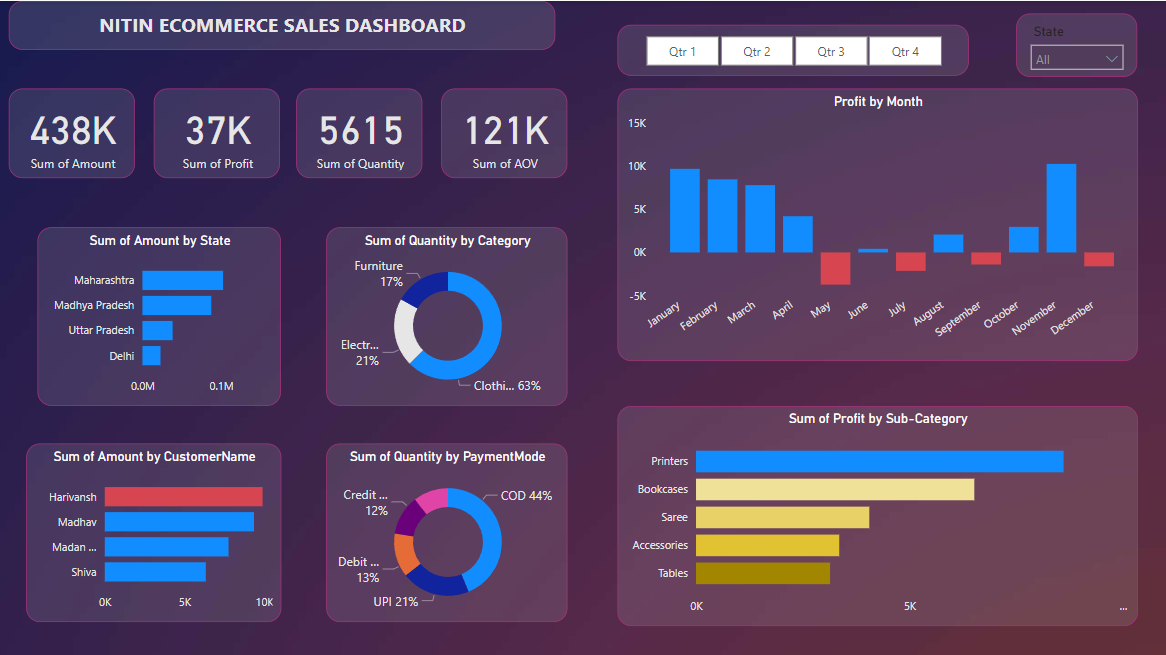

The page's visual inventory and layout, read from the dashboard file:
{"tool":"powerbi","page":{"name":"Page 1","canvas":[1280,720],"ordinal":0},"visuals":[{"type":"textbox","box":[9.6,0,599.7,53.5],"z":0},{"type":"columnChart","title":"Profit by Month","fields":{"Category":["Orders.Order Date.Variation.Date Hierarchy.Month"],"Y":["Details.Profit"]},"box":[677.9,96.1,570.8,299.1],"z":1000},{"type":"barChart","fields":{"Category":["Details.Sub-Category"],"Y":["Details.Profit"]},"box":[677.9,444.6,570.8,241.5],"z":2000},{"type":"donutChart","fields":{"Category":["Details.Category"],"Y":["Details.Quantity"]},"box":[358.1,248.4,264.8,196.2],"z":3000},{"type":"donutChart","fields":{"Y":["Details.Quantity"],"Category":["Details.PaymentMode"]},"box":[358.1,485.8,264.8,196.2],"z":4000},{"type":"card","fields":{"Values":["Details.Amount"]},"box":[9.6,96.1,138.6,98.8],"z":5000},{"type":"card","fields":{"Values":["Details.Profit"]},"box":[168.8,96.1,138.6,98.8],"z":6000},{"type":"card","fields":{"Values":["Details.Quantity"]},"box":[325.2,96.1,138.6,98.8],"z":7000},{"type":"card","fields":{"Values":["Details.AOV"]},"box":[484.4,96.1,138.6,98.8],"z":8000},{"type":"barChart","fields":{"Category":["Orders.State"],"Y":["Details.Amount"]},"box":[41.2,248.4,267.6,196.2],"z":9000},{"type":"barChart","fields":{"Category":["Orders.CustomerName"],"Y":["Details.Amount"]},"box":[28.8,485.8,279.9,196.2],"z":10000},{"type":"slicer","fields":{"Values":["Orders.Order Date.Variation.Date Hierarchy.Quarter"]},"box":[677.9,26.1,385.6,56.3],"z":11000},{"type":"slicer","fields":{"Values":["Orders.State"]},"box":[1115.6,13.7,133.1,70],"z":12000}]}

Visuals, with their boxes in screenshot pixels (x1, y1, x2, y2), scaled from the page's 1280x720 canvas onto the 1166x655 screenshot:
textbox: bbox(9, 0, 555, 49)
"Profit by Month" columnChart: bbox(618, 87, 1137, 360)
barChart - Details.Sub-Category x Details.Profit: bbox(618, 404, 1137, 624)
donutChart - Details.Category x Details.Quantity: bbox(326, 226, 567, 404)
donutChart - Details.Quantity x Details.PaymentMode: bbox(326, 442, 567, 620)
card - Details.Amount: bbox(9, 87, 135, 177)
card - Details.Profit: bbox(154, 87, 280, 177)
card - Details.Quantity: bbox(296, 87, 422, 177)
card - Details.AOV: bbox(441, 87, 568, 177)
barChart - Orders.State x Details.Amount: bbox(38, 226, 281, 404)
barChart - Orders.CustomerName x Details.Amount: bbox(26, 442, 281, 620)
slicer - Orders.Order Date.Variation.Date Hierarchy.Quarter: bbox(618, 24, 969, 75)
slicer - Orders.State: bbox(1016, 12, 1137, 76)
